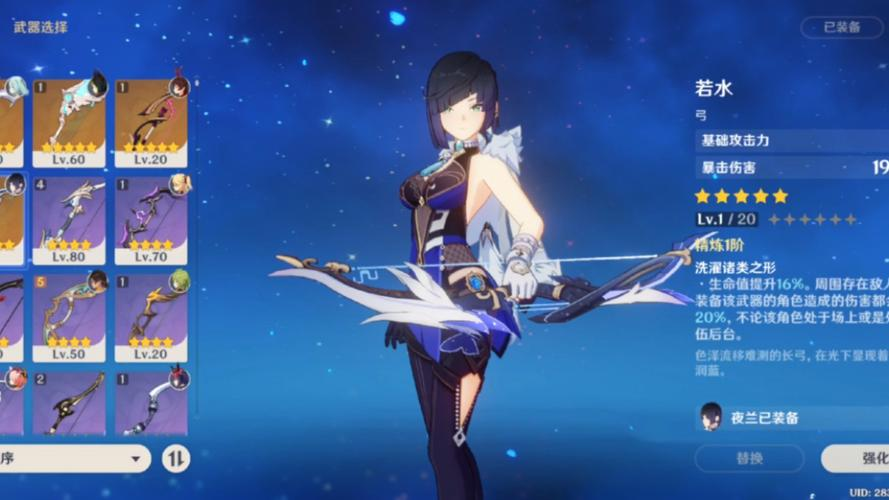夜兰: (384, 60, 549, 500)
